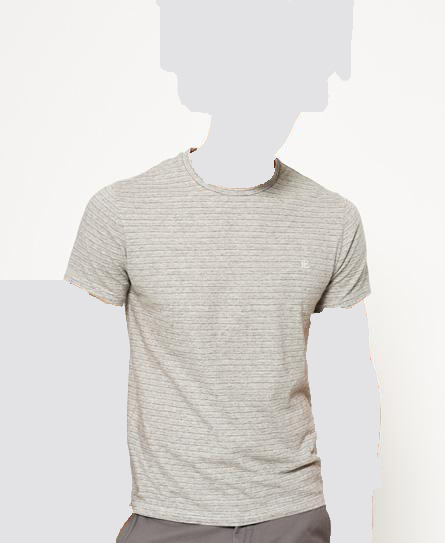teeshirt: (58, 145, 380, 527)
